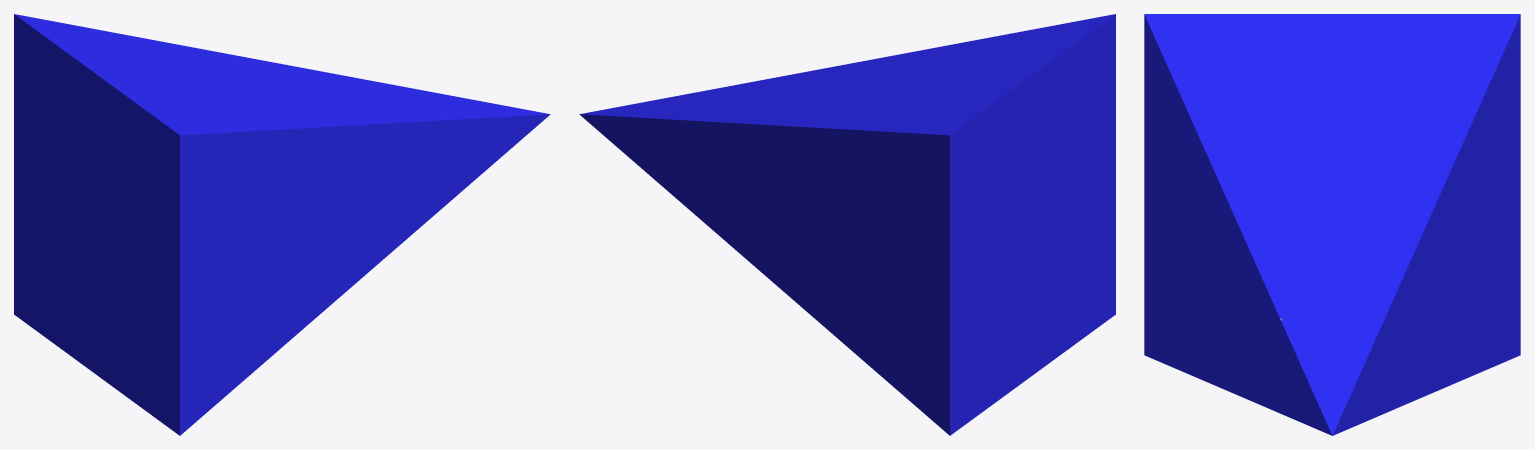
The model's file is boid.glb.
3 views of the same model, side by side, from view 1: azimuth 30°, elevation 25°; view 2: azimuth 150°, elevation 25°; view 3: azimuth 270°, elevation 25° (orthographic). The views are drawn at different scales.
Visible parts, largest first — view 1: Cube; view 2: Cube; view 3: Cube.
Part boxes in pixels (box(x1,y1,x2,y2)): Cube: box(14, 14, 550, 435); Cube: box(579, 14, 1115, 435); Cube: box(1144, 14, 1520, 435).
Size of the model in its own units: 3.16 by 2 by 2.
1 material, 1 textured.
